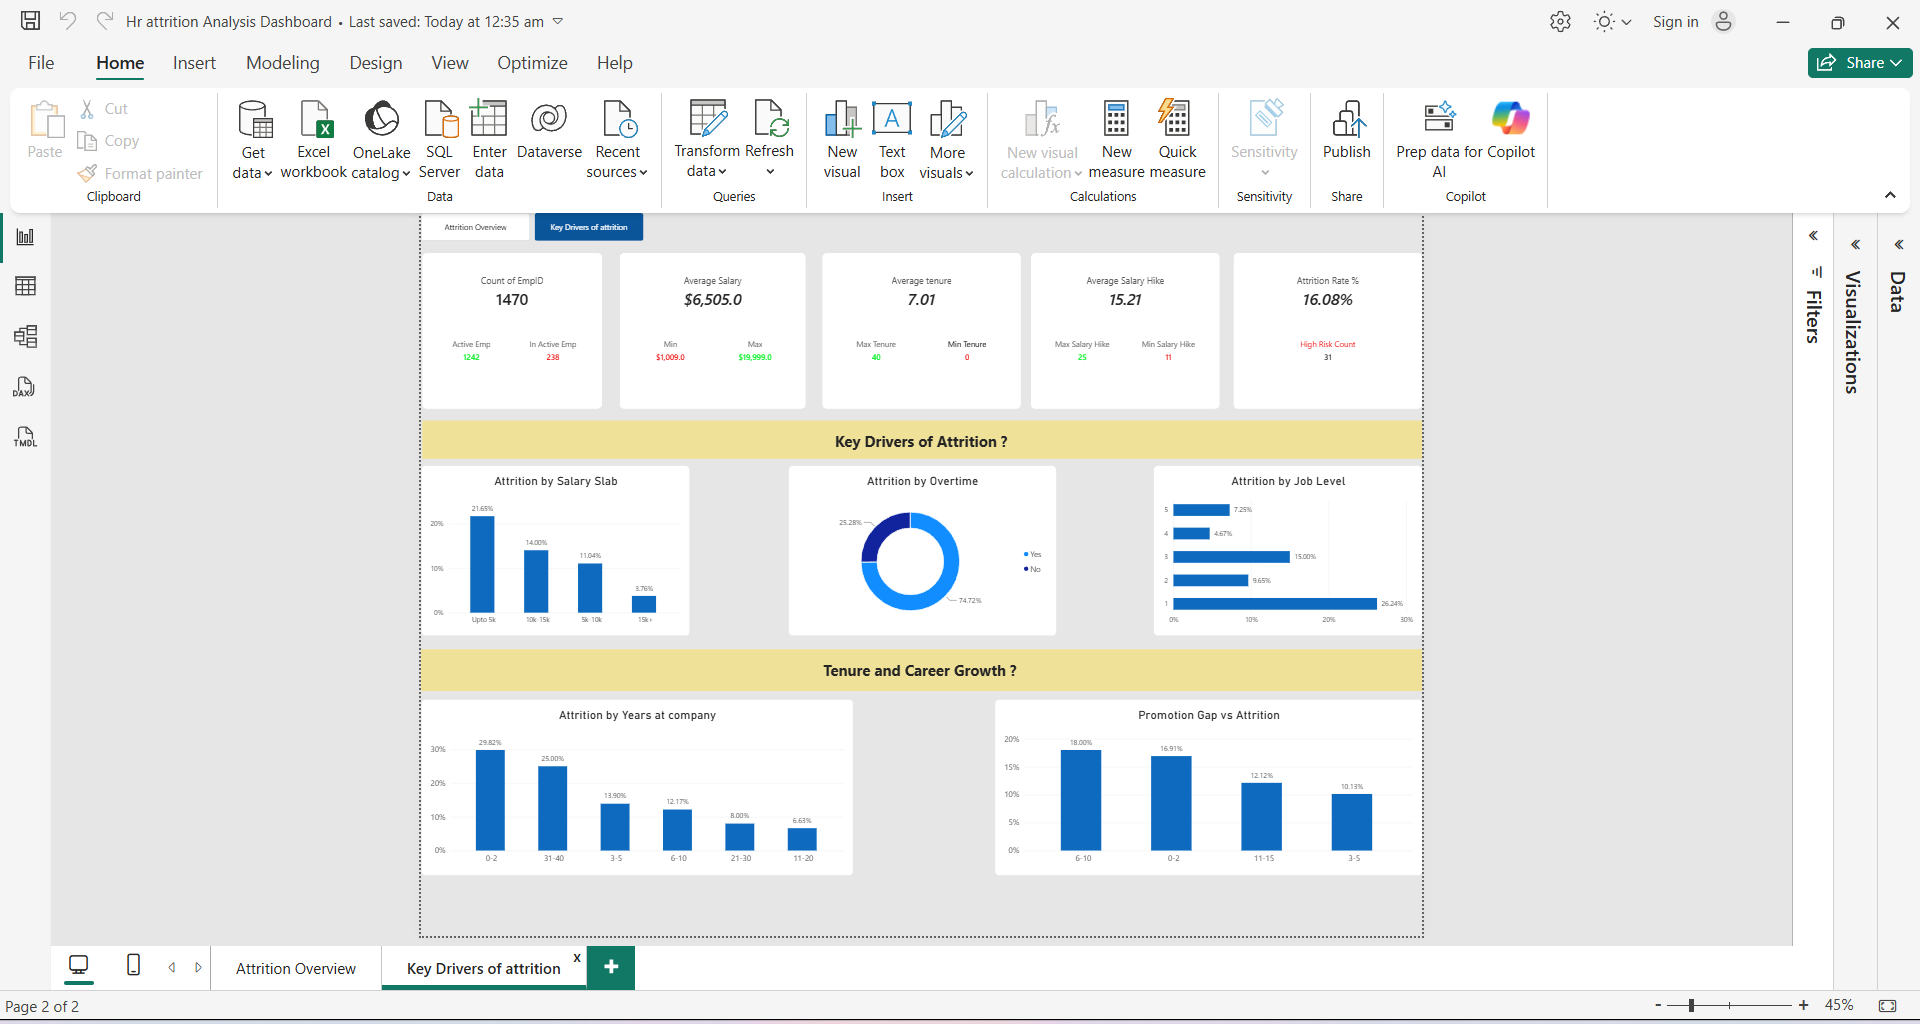

Layout of this report page (visuals, bound fields, positions):
{"tool":"powerbi","page":{"name":"Key Drivers of attrition ","canvas":[1800,1300],"ordinal":1},"visuals":[{"type":"cardVisual","fields":{"Data":["Count(HR_Analytics.EmpID)"]},"box":[2.1,72.9,323.4,280.8],"z":0},{"type":"cardVisual","fields":{"Data":["Avg(Employee_Data.MonthlyIncome)"]},"box":[356.2,72.9,334.7,280.8],"z":1000},{"type":"cardVisual","fields":{"Data":["Avg(Employee_Data.YearsAtCompany)"]},"box":[720.8,72.9,357.1,280.8],"z":2000},{"type":"cardVisual","fields":{"Data":["Avg(HR_Analytics.PercentSalaryHike)"]},"box":[1095.8,72.9,339.2,280.8],"z":3000},{"type":"cardVisual","fields":{"Data":["_Measure.Attrition Rate %"]},"box":[1460.4,72.9,339.2,280.8],"z":4000},{"type":"textbox","box":[1.3,372.1,1800,68.8],"z":5000},{"type":"columnChart","title":" Attrition by Salary Slab","fields":{"Category":["HR_Analytics.SalarySlab"],"Y":["_Measure.Attrition Rate %"]},"box":[0,454.2,483.3,306.2],"z":6000},{"type":"donutChart","title":" Attrition by Overtime","fields":{"Category":["HR_Analytics.OverTime"],"Y":["_Measure.Attrition Rate %"]},"box":[660.4,454.2,481.2,306.2],"z":7000},{"type":"barChart","title":"Attrition by Job Level","fields":{"Category":["HR_Analytics.JobLevel"],"Y":["_Measure.Attrition Rate %"]},"box":[1316.7,454.2,483.3,306.2],"z":8000},{"type":"textbox","box":[0,783.3,1800,75],"z":9000},{"type":"columnChart","title":" Attrition by Years at company ","fields":{"Category":["HR_Analytics.YearsAtCompany Group"],"Y":["_Measure.Attrition Rate %"]},"box":[0,872.9,777.1,316.7],"z":10000},{"type":"columnChart","title":"Promotion Gap vs Attrition","fields":{"Category":["HR_Analytics.YearsSinceLastPromotion Group"],"Y":["_Measure.Attrition Rate %"]},"box":[1031.2,872.9,768.8,316.7],"z":11000},{"type":"pageNavigator","box":[0,0,400,50],"z":11001}]}

Visuals, with their boxes on the page's 1800x1300 design canvas (x1, y1, x2, y2). These are canvas units, not pixel positions in the 1920x1024 screenshot, which may show the page scaled, cropped or inside an application window:
cardVisual - Count(HR_Analytics.EmpID): [left=2, top=73, right=326, bottom=354]
cardVisual - Avg(Employee_Data.MonthlyIncome): [left=356, top=73, right=691, bottom=354]
cardVisual - Avg(Employee_Data.YearsAtCompany): [left=721, top=73, right=1078, bottom=354]
cardVisual - Avg(HR_Analytics.PercentSalaryHike): [left=1096, top=73, right=1435, bottom=354]
cardVisual - _Measure.Attrition Rate %: [left=1460, top=73, right=1800, bottom=354]
textbox: [left=1, top=372, right=1801, bottom=441]
" Attrition by Salary Slab" columnChart: [left=0, top=454, right=483, bottom=760]
" Attrition by Overtime" donutChart: [left=660, top=454, right=1142, bottom=760]
"Attrition by Job Level" barChart: [left=1317, top=454, right=1800, bottom=760]
textbox: [left=0, top=783, right=1800, bottom=858]
" Attrition by Years at company " columnChart: [left=0, top=873, right=777, bottom=1190]
"Promotion Gap vs Attrition" columnChart: [left=1031, top=873, right=1800, bottom=1190]
pageNavigator: [left=0, top=0, right=400, bottom=50]
